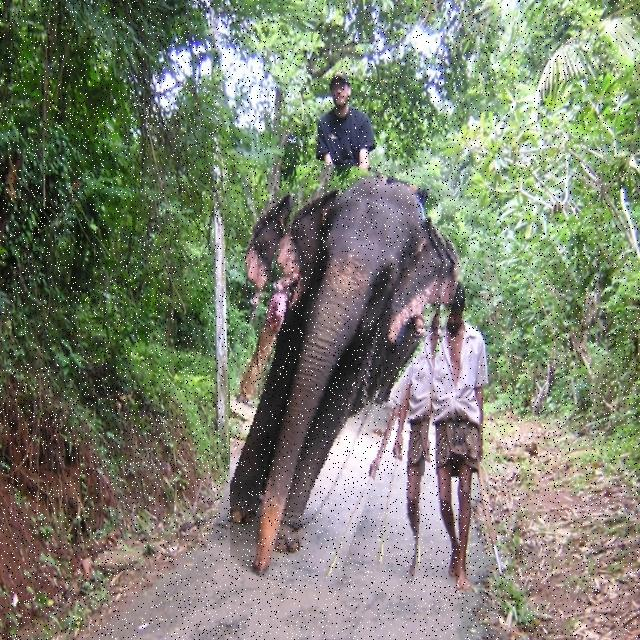elephant: (230, 166, 454, 594)
